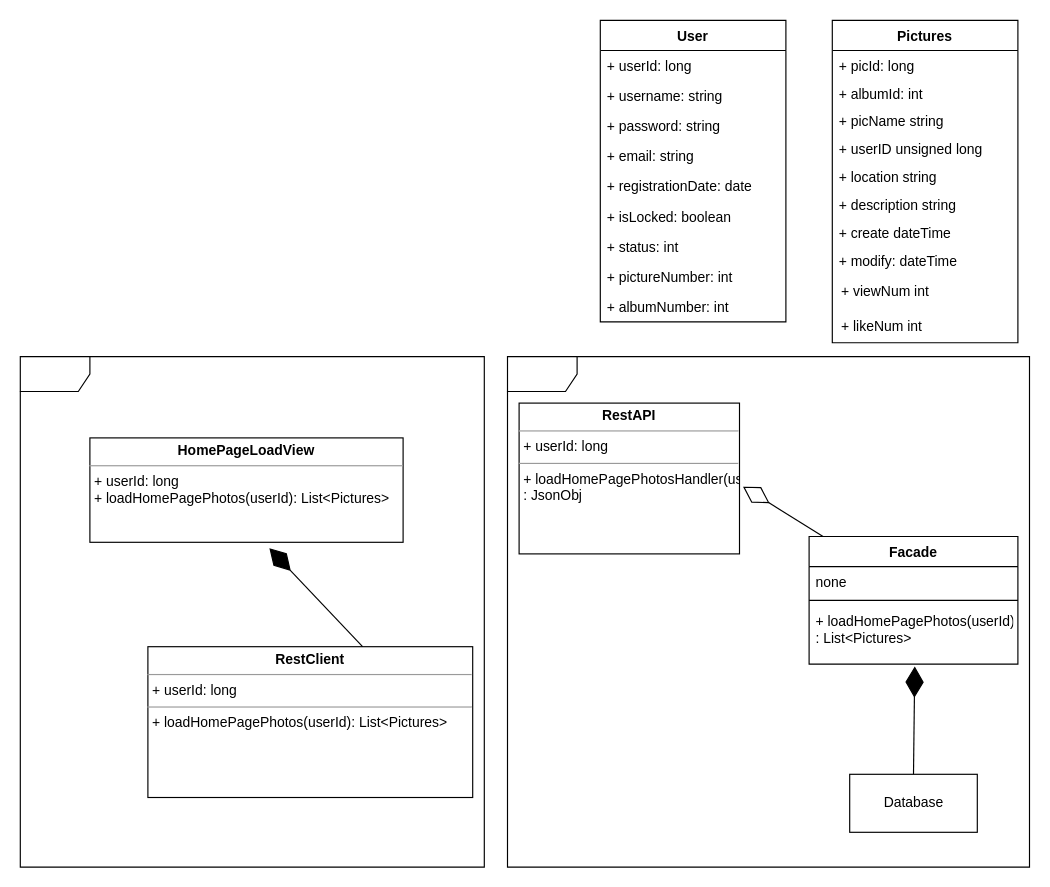
The diagram is 1050 pixels wide and 887 high, and some of its shapes have lost their labels. Here are the shapes that lost their labels. From the top down, the centre of each, then its label:
At point (251, 611): "Frontend".
At point (768, 611): "backend".
